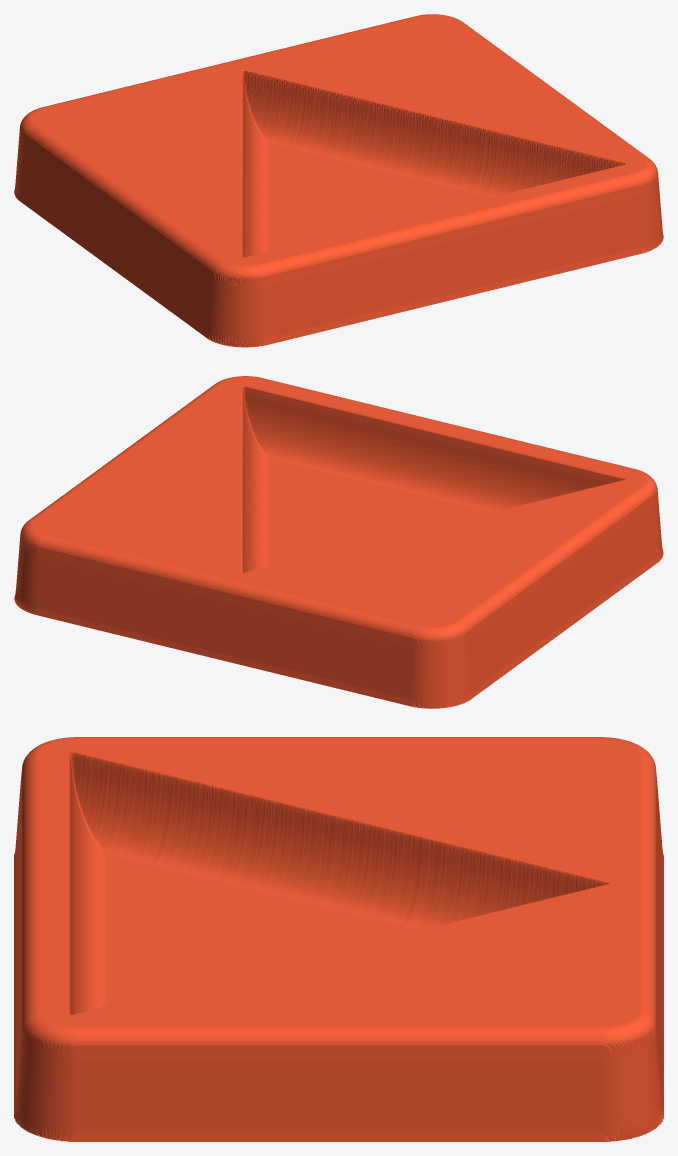
Rendered from mold.glb.
3 views of the same model, one above another, from view 1: azimuth 30°, elevation 25°; view 2: azimuth 150°, elevation 25°; view 3: azimuth 270°, elevation 25° (orthographic). The views are drawn at different scales.
Parts seen in each view (by area): view 1: geometry_0; view 2: geometry_0; view 3: geometry_0.
Boxes of the visible parts, x1,y1,x2,y2 form: geometry_0: (14, 14, 663, 347); geometry_0: (14, 376, 663, 708); geometry_0: (14, 737, 663, 1141).
Size of the model in its own units: 0.105 by 0.0165 by 0.0932.
